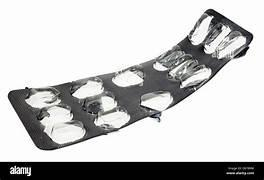pill_Strip: (8, 82, 108, 149)
